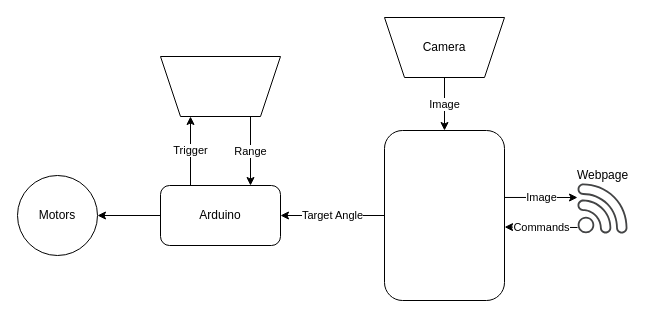
Image size: 655x318. Some labels were removed from this diagram. The centre of each missing label's shape, as x and y in pixels:
Raspberry Pi: the point at 444,215
Sonar: the point at 220,86
